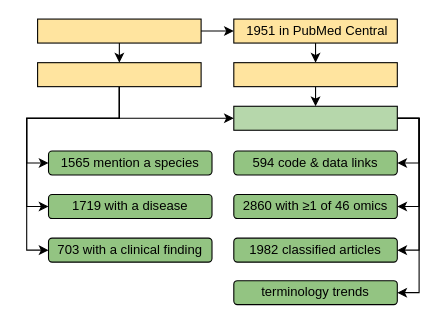
The diagram is 447 pixels wide and 324 high, and some of its shapes have lost their labels. The centre of each missing label's shape, as x and y in pixels:
"1520 articles with full-text" goes at [315,74].
"1857 with abstracts only" goes at [119,74].
"3456 PubMed results" goes at [119,30].
"combined dataset" goes at [315,117].
